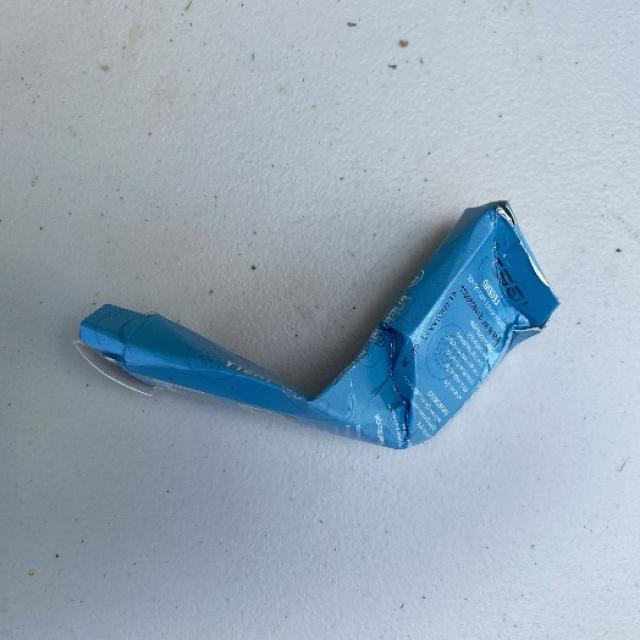kertas: (49, 159, 572, 476)
